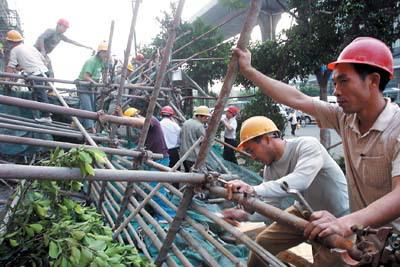helmet: (331, 37, 398, 75), (238, 115, 285, 147), (7, 31, 26, 44), (125, 107, 142, 119), (197, 106, 212, 117), (98, 44, 112, 54), (229, 106, 241, 117), (161, 108, 175, 116), (59, 19, 70, 29), (138, 53, 148, 61)
